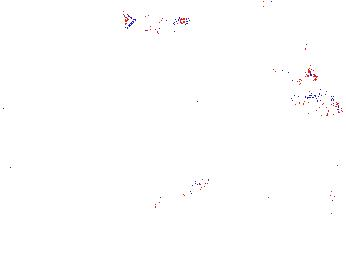glassfish: (154, 174, 212, 215), (241, 123, 308, 157)
red belly glassfish: (289, 92, 344, 117), (267, 61, 317, 85), (143, 21, 177, 38)
redtail glassfish: (117, 7, 192, 30)
